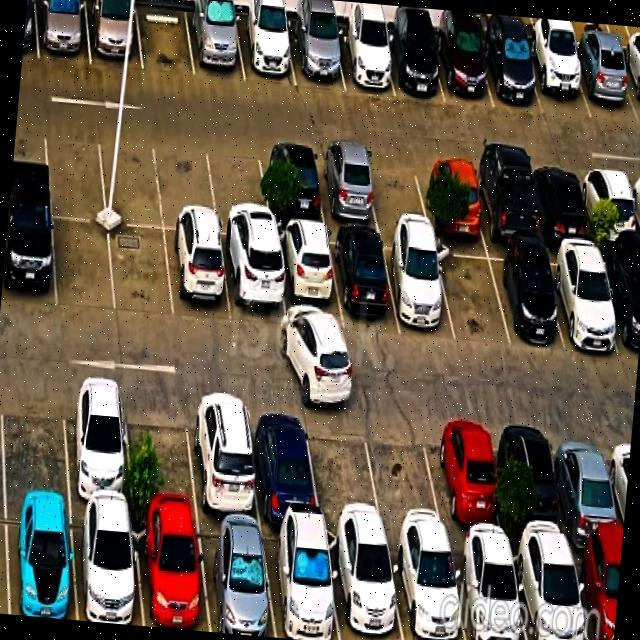empty: (363, 410, 447, 537), (305, 405, 384, 532), (124, 386, 198, 516), (0, 375, 69, 502), (434, 242, 509, 345), (97, 128, 163, 228), (205, 138, 271, 238), (155, 134, 218, 232), (109, 224, 173, 320), (43, 123, 106, 220), (53, 218, 115, 312), (363, 150, 430, 229), (136, 2, 194, 76)
occupied: (428, 413, 505, 543), (186, 392, 260, 521), (196, 518, 275, 637), (246, 398, 320, 524), (550, 422, 623, 549), (132, 513, 209, 632), (62, 379, 132, 509), (499, 417, 570, 545), (261, 524, 339, 640), (71, 506, 143, 626), (326, 529, 403, 640), (5, 502, 76, 620), (543, 245, 620, 351), (387, 537, 465, 640), (448, 539, 527, 640), (381, 235, 454, 340), (486, 245, 563, 344), (510, 543, 588, 640), (328, 230, 399, 332), (274, 226, 342, 330), (164, 230, 231, 322), (220, 236, 286, 327), (470, 159, 540, 243), (417, 155, 485, 236), (258, 143, 325, 225), (568, 44, 638, 122), (0, 209, 55, 308), (523, 41, 591, 118), (314, 147, 379, 227), (528, 162, 592, 241), (479, 34, 542, 113), (578, 165, 640, 245), (570, 546, 621, 640), (432, 30, 493, 107), (598, 248, 640, 359), (381, 30, 444, 102), (234, 13, 296, 86), (185, 7, 244, 81), (332, 26, 394, 96), (85, 0, 142, 69), (287, 22, 344, 89), (35, 0, 90, 64), (617, 50, 640, 121)
